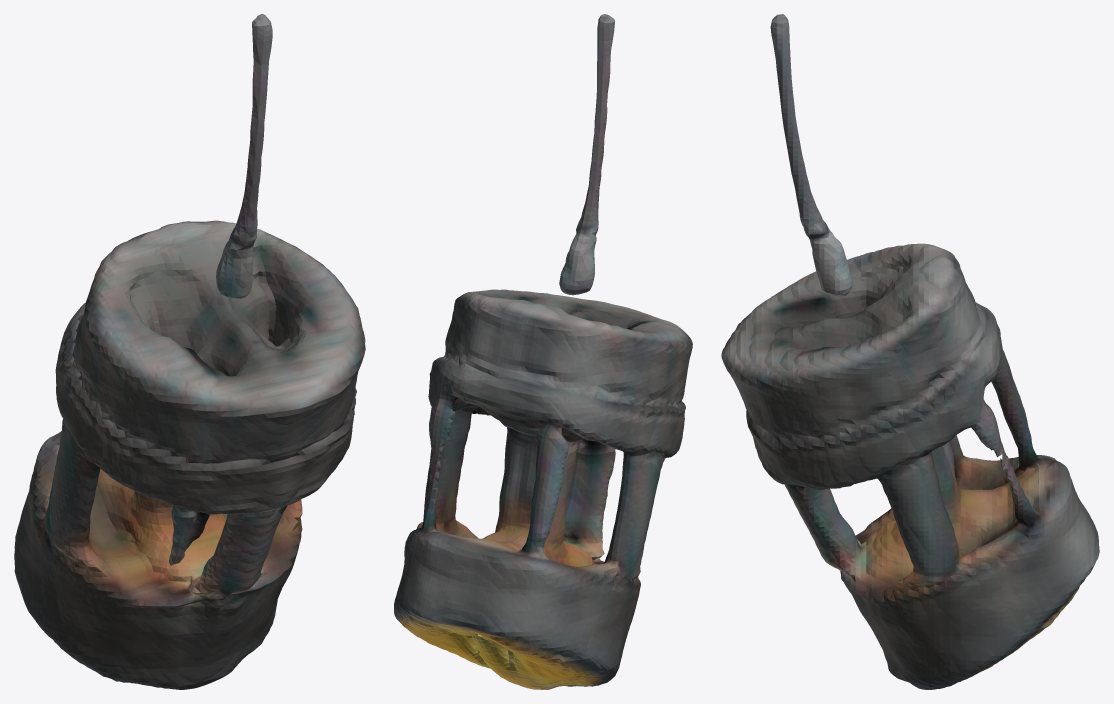
Rendered from pendant-light.glb.
3 views of the same model, side by side, from view 1: azimuth 30°, elevation 25°; view 2: azimuth 150°, elevation 25°; view 3: azimuth 270°, elevation 25° (orthographic). The views are drawn at different scales.
Visible parts, largest first — view 1: world; view 2: world; view 3: world.
Boxes of the visible parts, x1,y1,x2,y2 form: world: (14,14,365,689); world: (394,14,692,689); world: (721,14,1099,689).
Size of the model in its own units: 0.3573 by 0.9541 by 0.4929.
